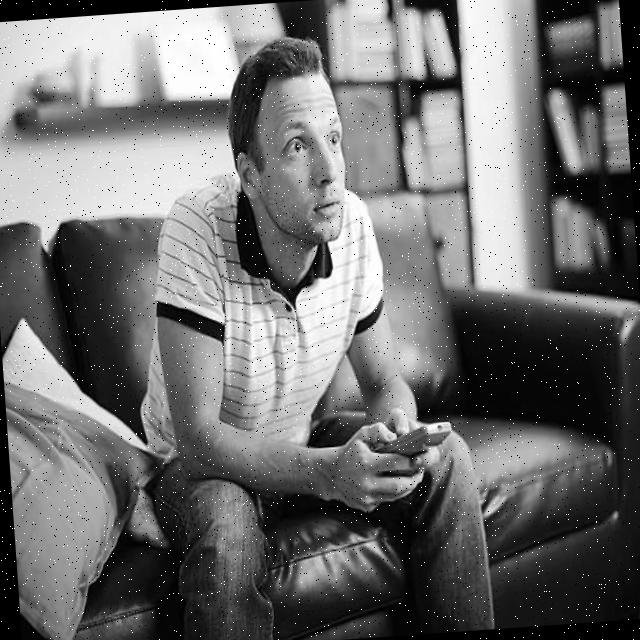Surprised: (254, 73, 349, 250)
